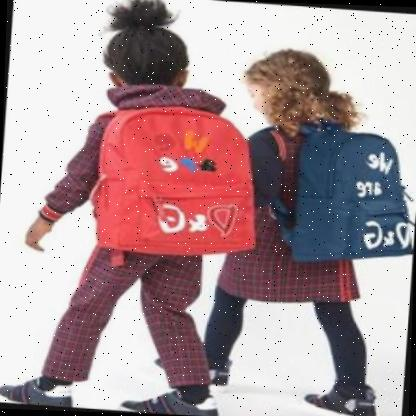bag: (88, 101, 264, 273), (266, 113, 416, 272)
person: (0, 0, 253, 416), (192, 34, 416, 416)
